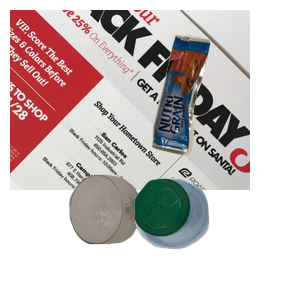glass: (67, 172, 229, 300)
paper: (10, 10, 250, 190)
plastic: (132, 176, 300, 300)
trash: (149, 31, 300, 179)
